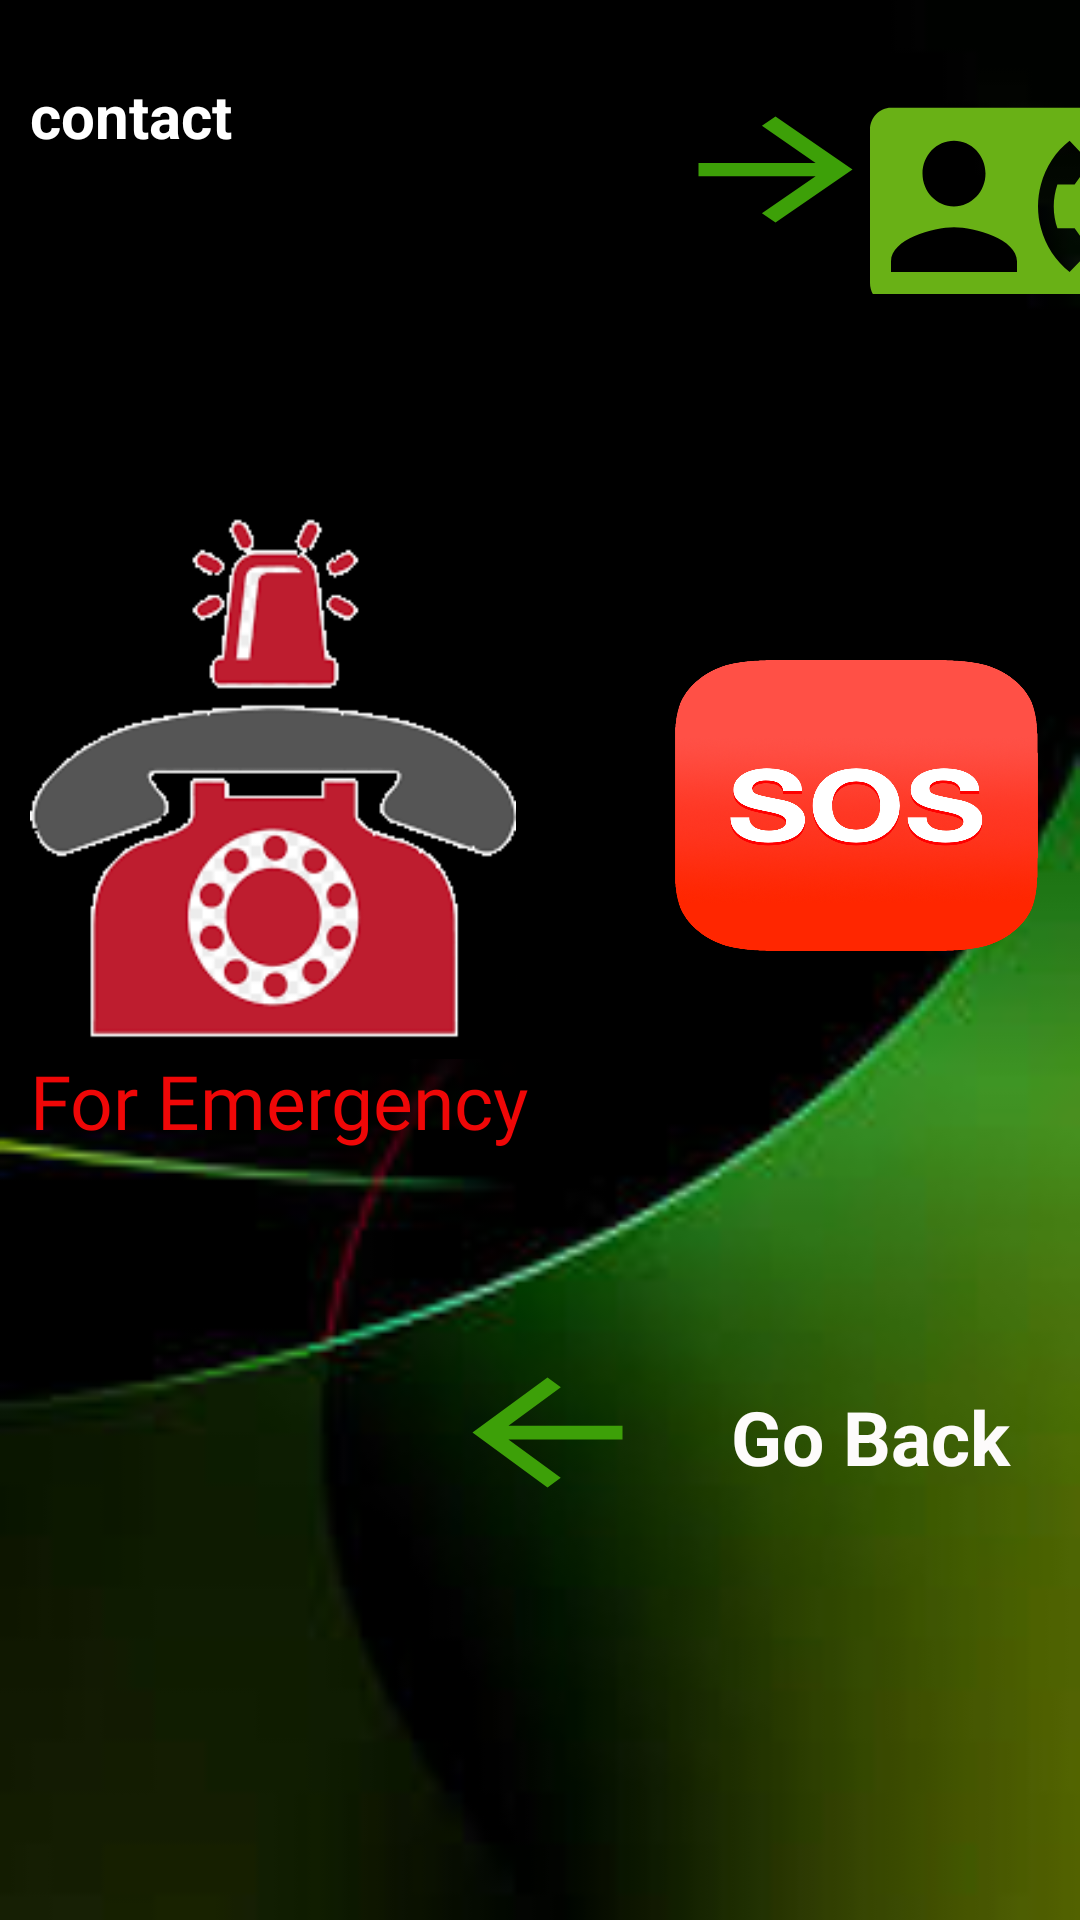

Where to tap for icons on this 1080px x 1920px app screen, as (x=x, y=y):
arrow back: (x=547, y=1432)
arrow forward: (x=775, y=169)
